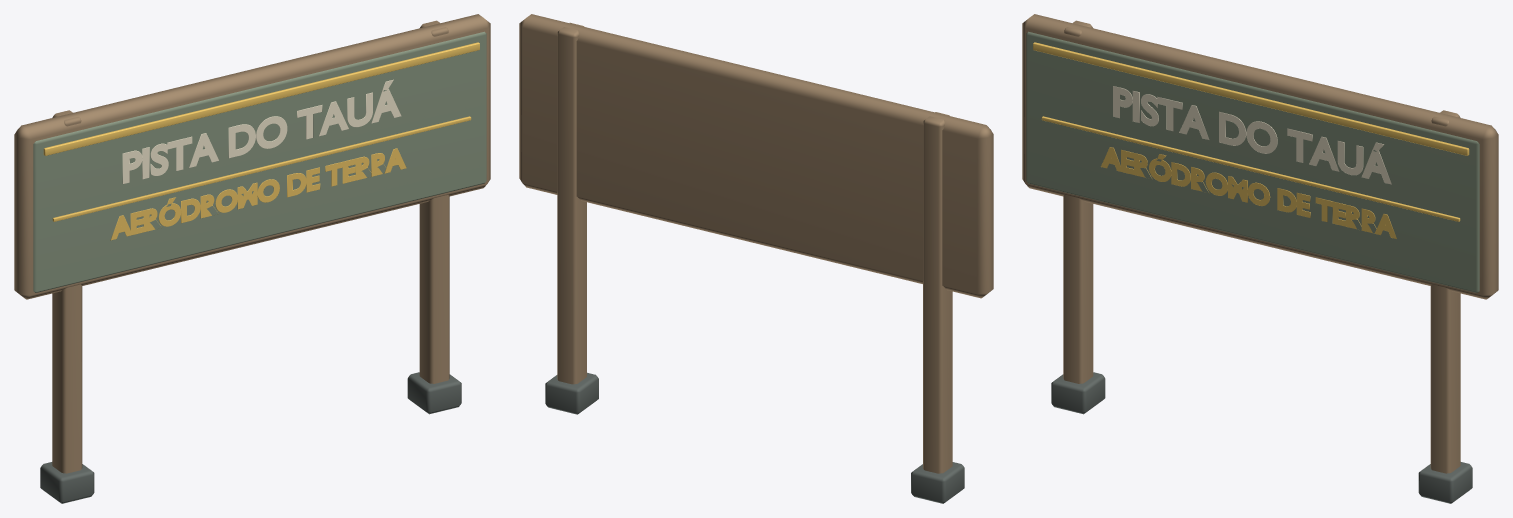
The model's file is placa_identificacao_runway.glb.
3 views of the same model, side by side, from view 1: azimuth 30°, elevation 25°; view 2: azimuth 150°, elevation 25°; view 3: azimuth 330°, elevation 25° (orthographic).
Visible parts, largest first — view 1: placa_identificacao_runway; view 2: placa_identificacao_runway; view 3: placa_identificacao_runway.
Part boxes in pixels (x1,y1,x2,y2): placa_identificacao_runway: (14, 14, 490, 503); placa_identificacao_runway: (519, 14, 993, 503); placa_identificacao_runway: (1022, 14, 1498, 503).
Bounding box in the file's own units: 3.7 × 2.84 × 0.3105.
